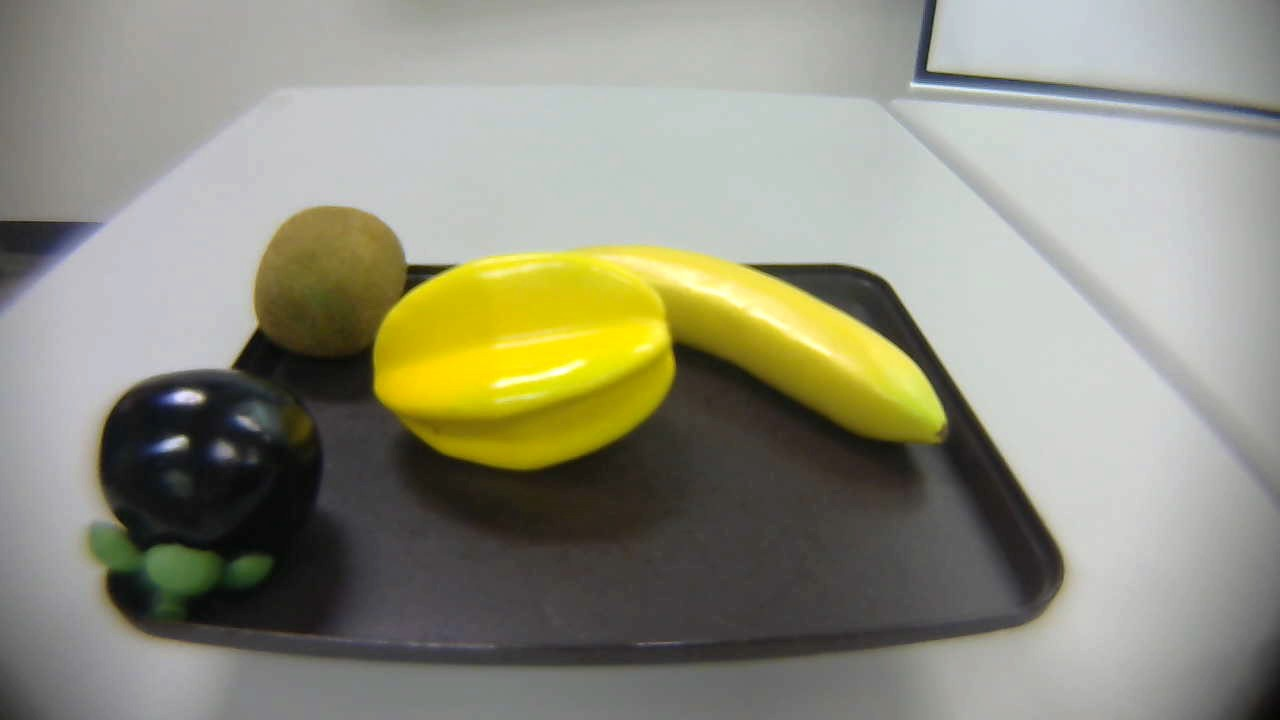banana: (477, 228, 957, 466)
kiwi fruit: (257, 206, 420, 369)
mangosteen: (66, 363, 324, 627)
star fruit: (368, 246, 688, 484)
